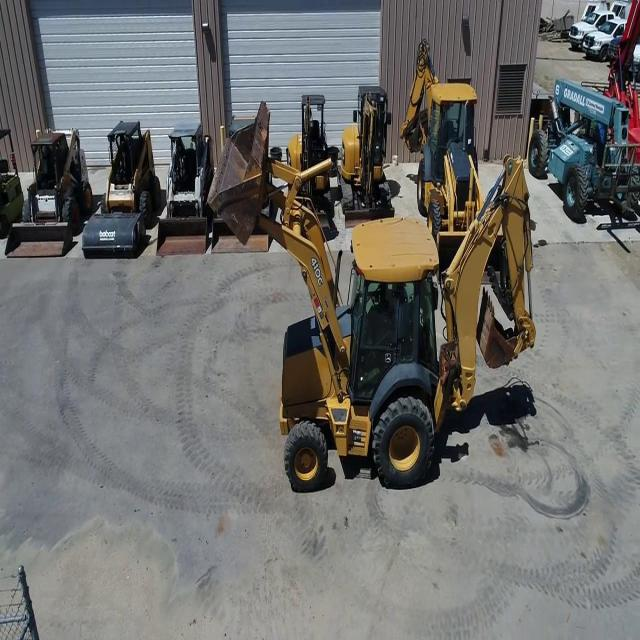buldozerpayloadergrader: (5, 127, 91, 256), (83, 119, 161, 258), (155, 124, 209, 256)
excavator: (338, 83, 397, 225), (285, 87, 336, 232)
